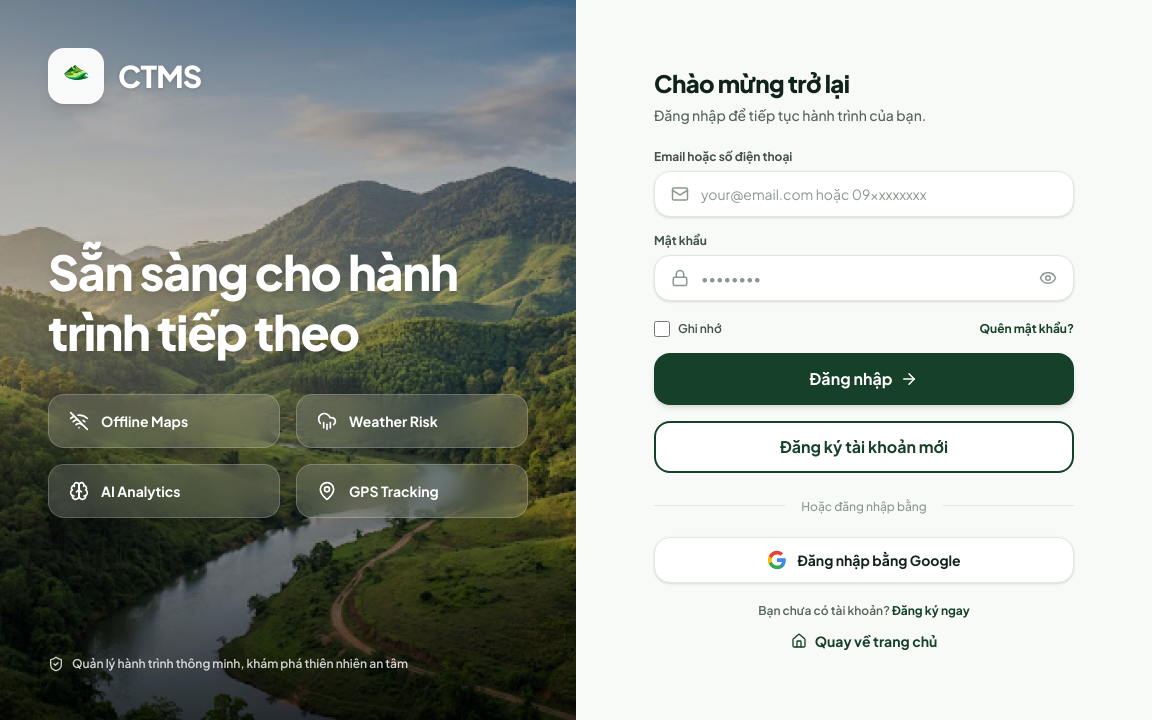
Test case: LoginPage › shows a Vietnamese error for a non-active account
The width and height of the screenshot is (1152, 720).
Type "pending@ctms.local" into the field with placeholder "your@email.com hoặc 09xxxxxxxx".
click(879, 194); type("pending@ctms.local")  # box [701, 184, 1057, 204]
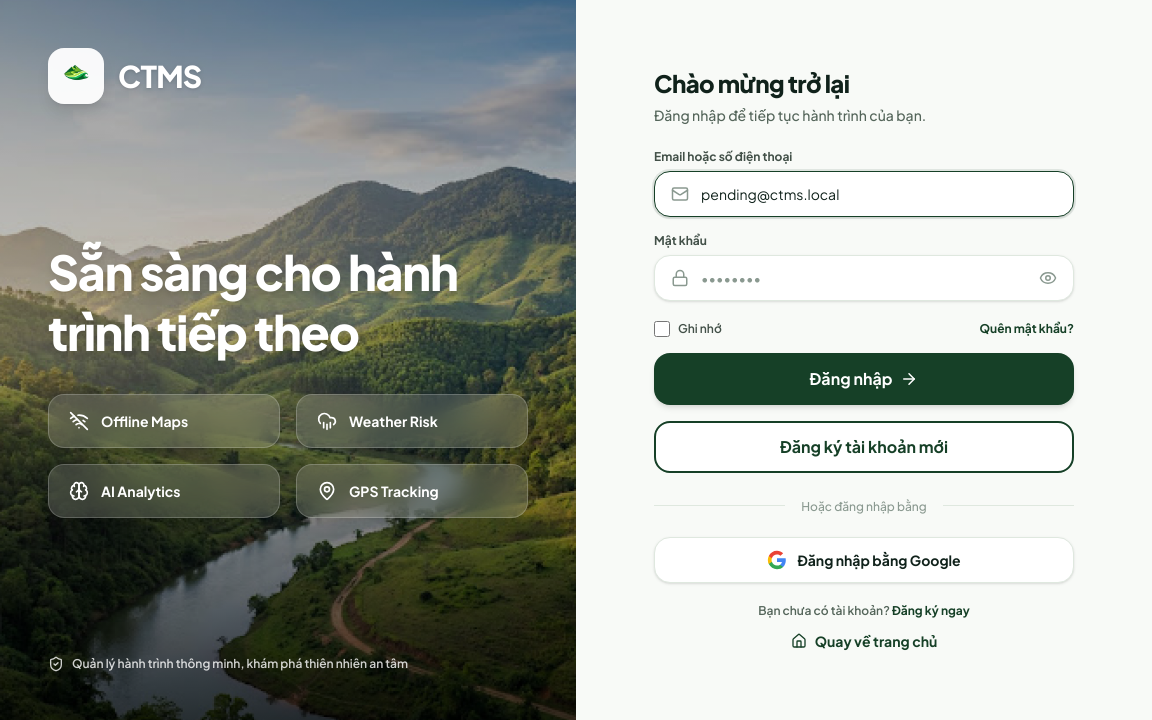
Type "Verify@123" into the password field with placeholder "••••••••".
click(864, 278); type("Verify@123")  # box [701, 268, 1027, 288]
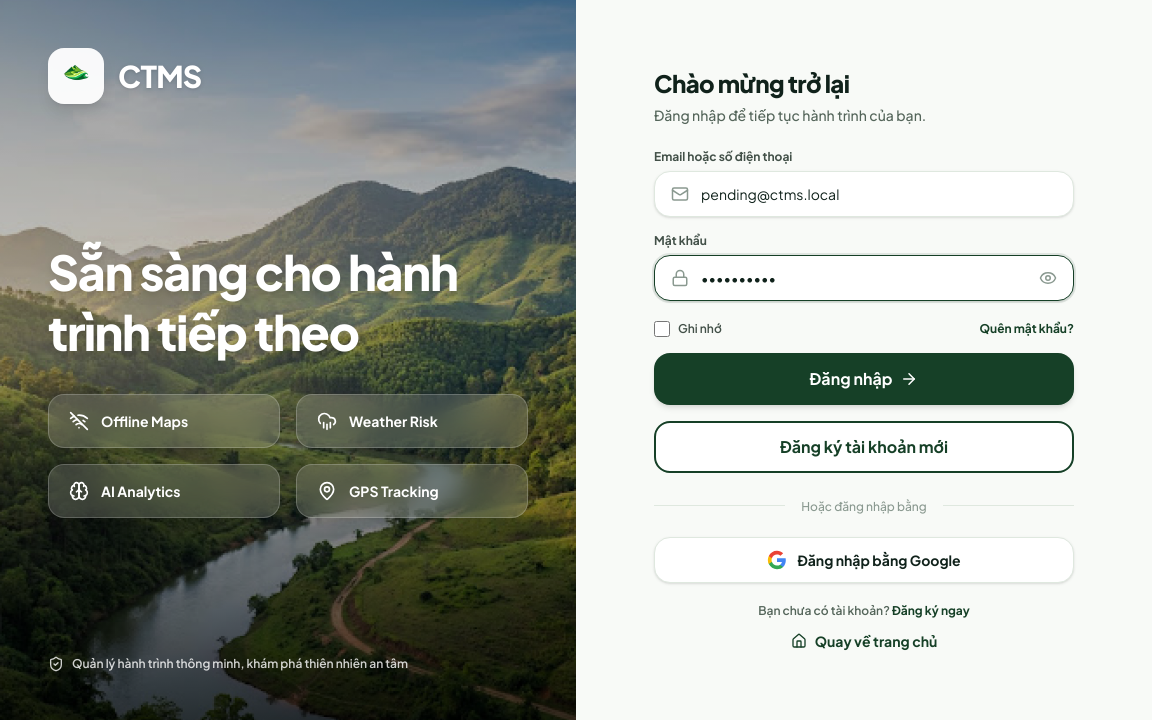
Click the button "Đăng nhập".
click(864, 379)  # box [654, 353, 1074, 405]
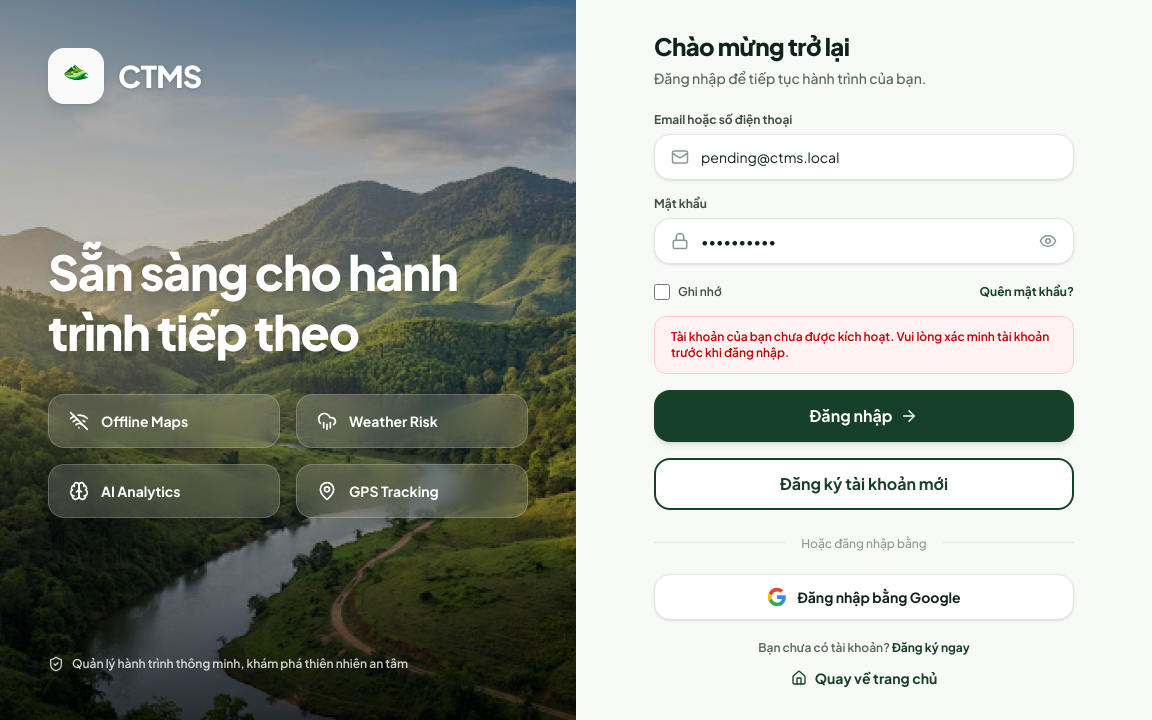
Expected: the text "Tài khoản của bạn chưa được kích hoạt. Vui lòng xác minh tài khoản trước khi đăng nhập." is shown, [671, 329, 1049, 360]
